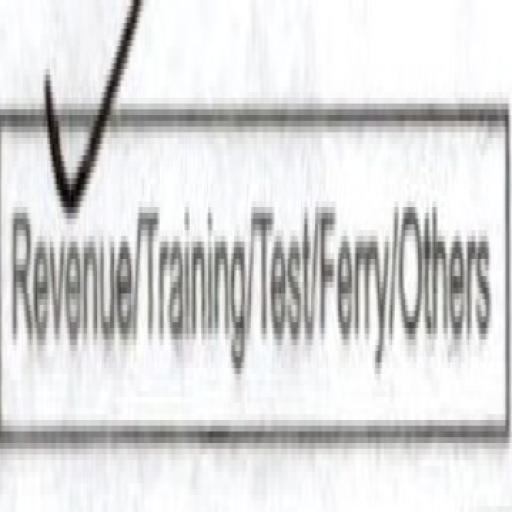check: (0, 16, 145, 456)
